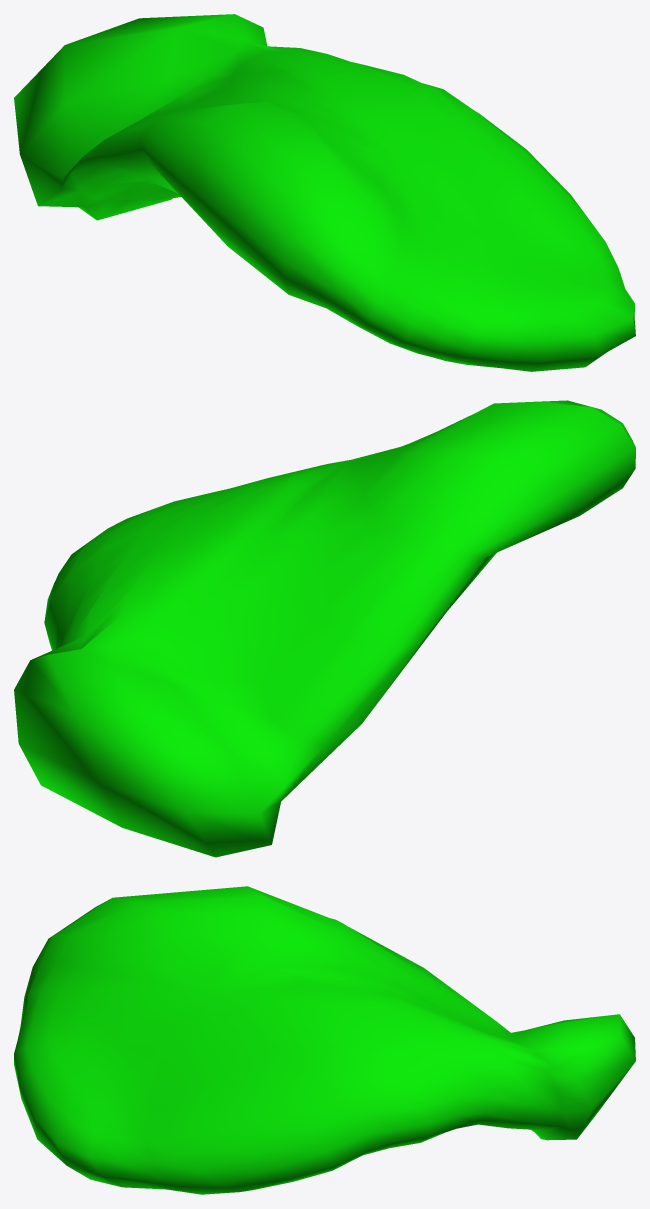
The model's file is Deseases_02.fbx.
The picture shows the model from 3 angles, top to bottom: view 1: azimuth 30°, elevation 25°; view 2: azimuth 150°, elevation 25°; view 3: azimuth 270°, elevation 25°; orthographic projection. The views are drawn at different scales.
Visible parts, largest first — view 1: Sphere.017; view 2: Sphere.017; view 3: Sphere.017.
Part boxes in pixels (left/top/right/bottom): Sphere.017: left=14, top=14, right=635, bottom=371; Sphere.017: left=14, top=400, right=635, bottom=857; Sphere.017: left=14, top=886, right=635, bottom=1194.
Size of the model in its own units: 46.9 by 27.65 by 78.69.
